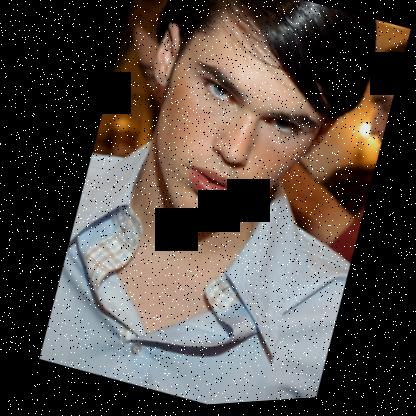Male: (105, 0, 370, 262)
